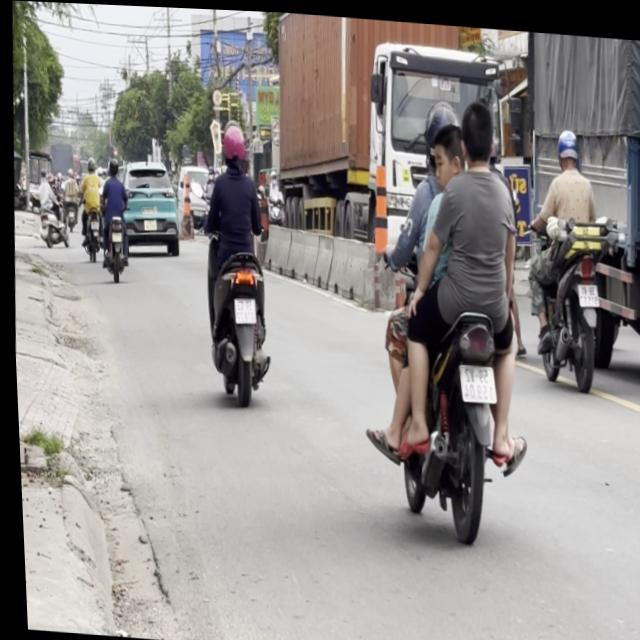helmet: (420, 95, 460, 145), (217, 116, 247, 166), (554, 121, 580, 165)
licenseplate: (356, 86, 539, 541), (191, 115, 280, 402), (518, 116, 612, 387)
motorcyclist: (456, 92, 496, 160), (427, 118, 465, 186)
nohelmet: (454, 357, 493, 398), (229, 293, 253, 321), (574, 276, 596, 302)
